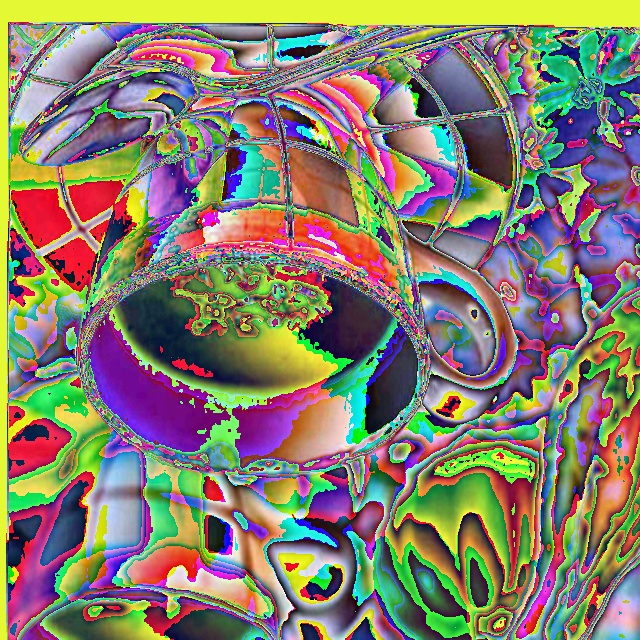background: (38, 43, 261, 639), (268, 300, 639, 639), (105, 148, 394, 407)
